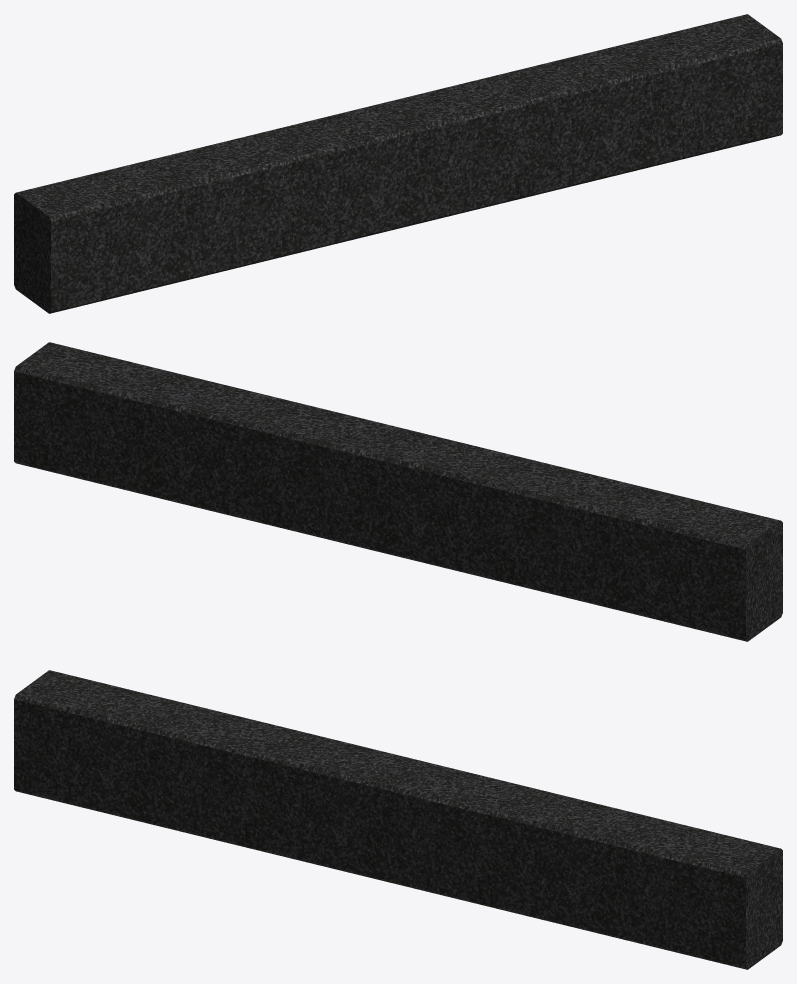
Rendered from fence-stone-baluster.glb.
3 views of the same model, one above another, from view 1: azimuth 30°, elevation 25°; view 2: azimuth 150°, elevation 25°; view 3: azimuth 330°, elevation 25° (orthographic).
Parts seen in each view (by area): view 1: fence-stone-baluster; view 2: fence-stone-baluster; view 3: fence-stone-baluster.
Part boxes in pixels (x1,y1,x2,y2): fence-stone-baluster: (14,14,782,313); fence-stone-baluster: (14,342,782,641); fence-stone-baluster: (14,670,782,969).
Bounding box in the file's own units: 0.91 × 0.115 × 0.08.
Materials: 2 (2 with a texture image).
